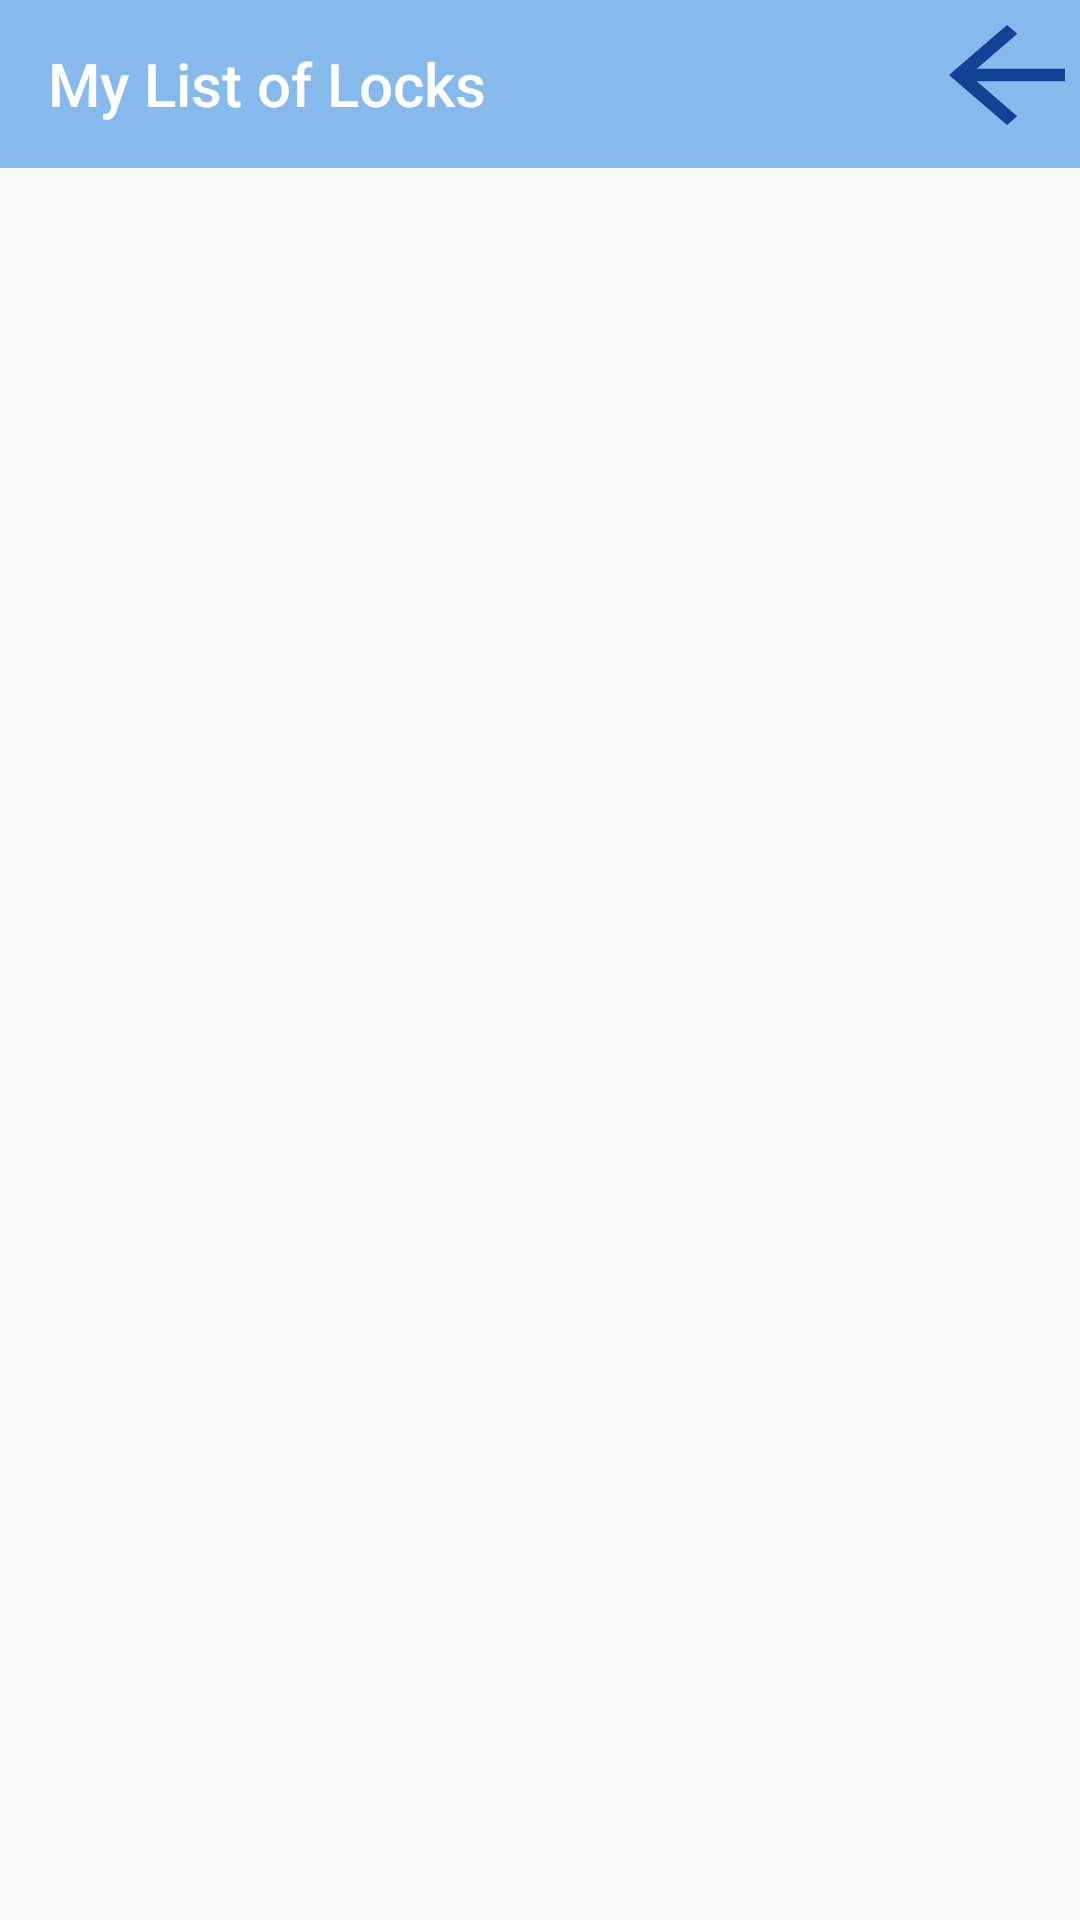

Icon bounding boxes for this 1080w x 1920h phone screenshot, format (x1, y1, x2, y2):
arrow back: (949, 25, 1065, 125)
